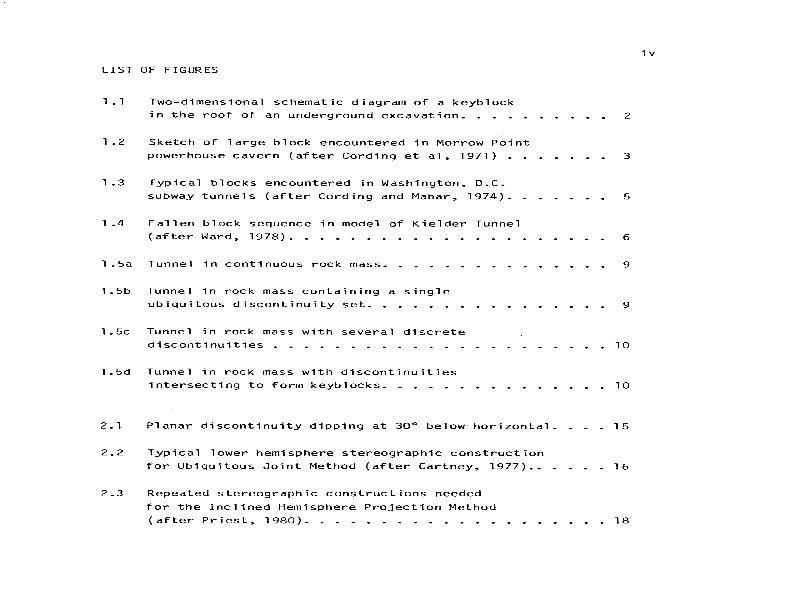table: (98, 61, 643, 535)
